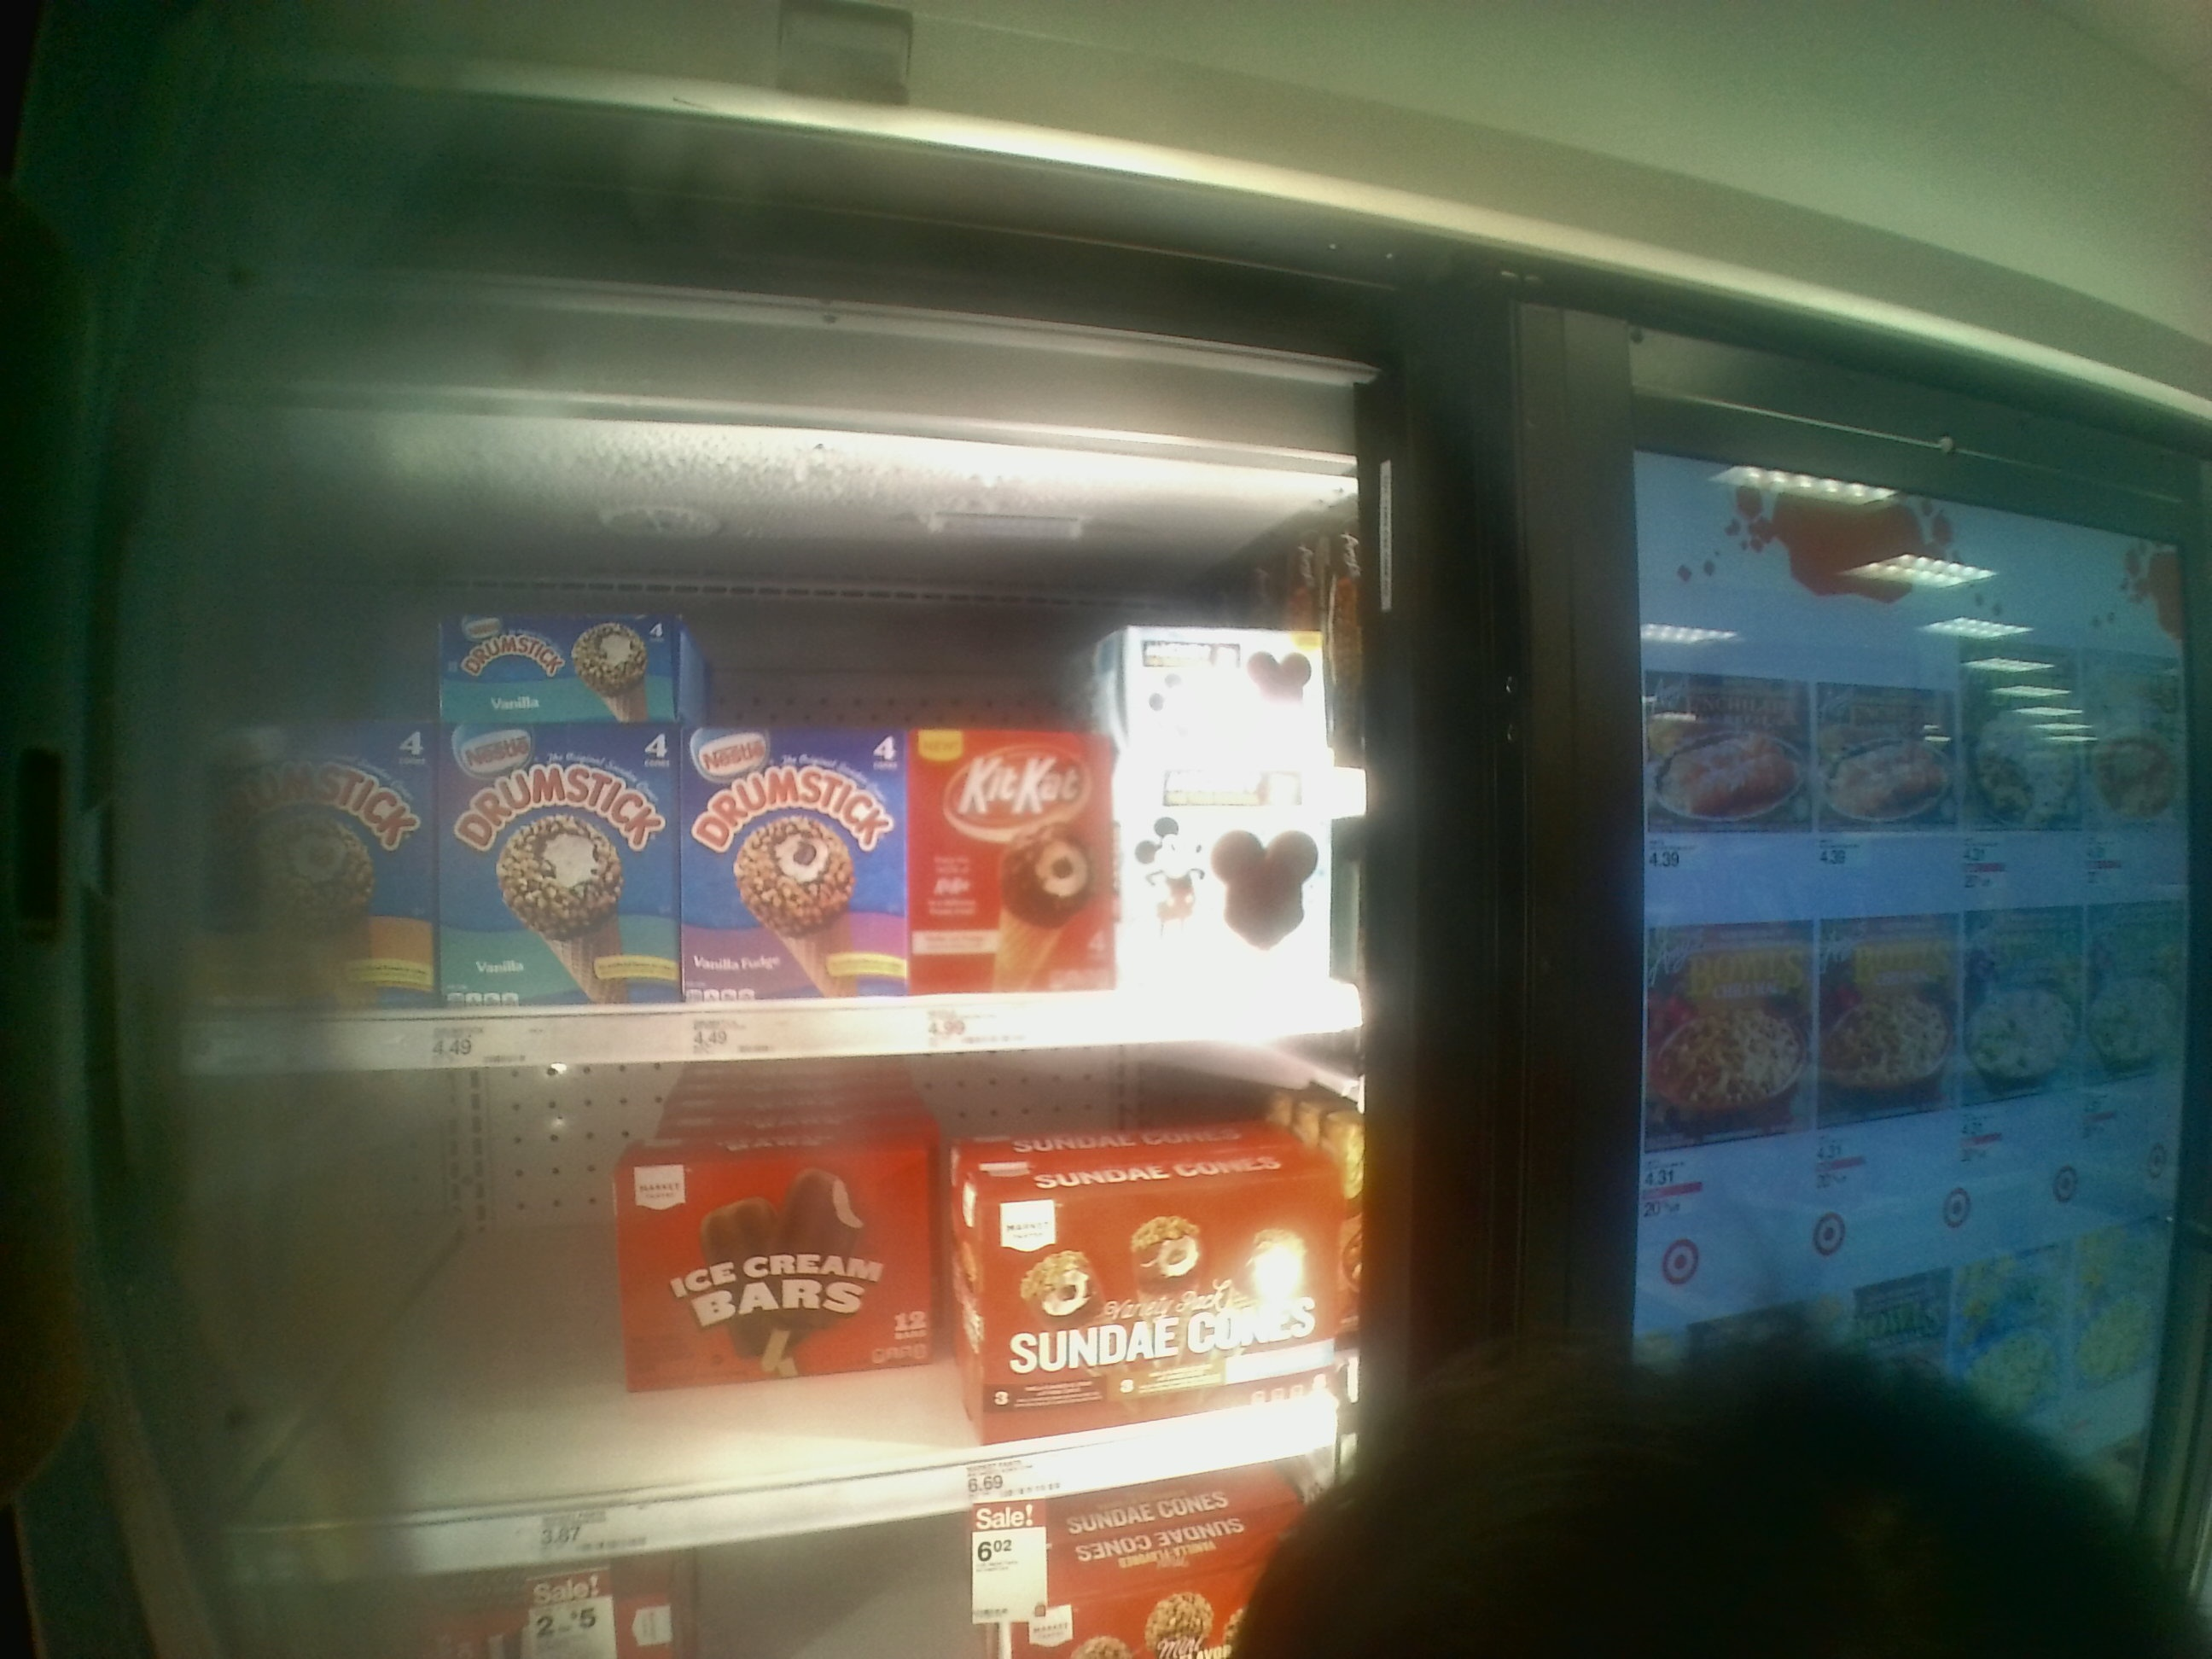shelf: (172, 511, 1374, 1068), (179, 1060, 1367, 1565)
